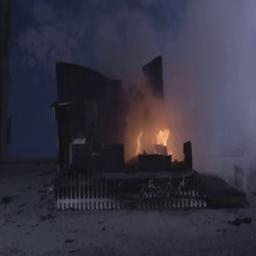fire: (128, 94, 187, 164)
smoke: (81, 0, 255, 113)
